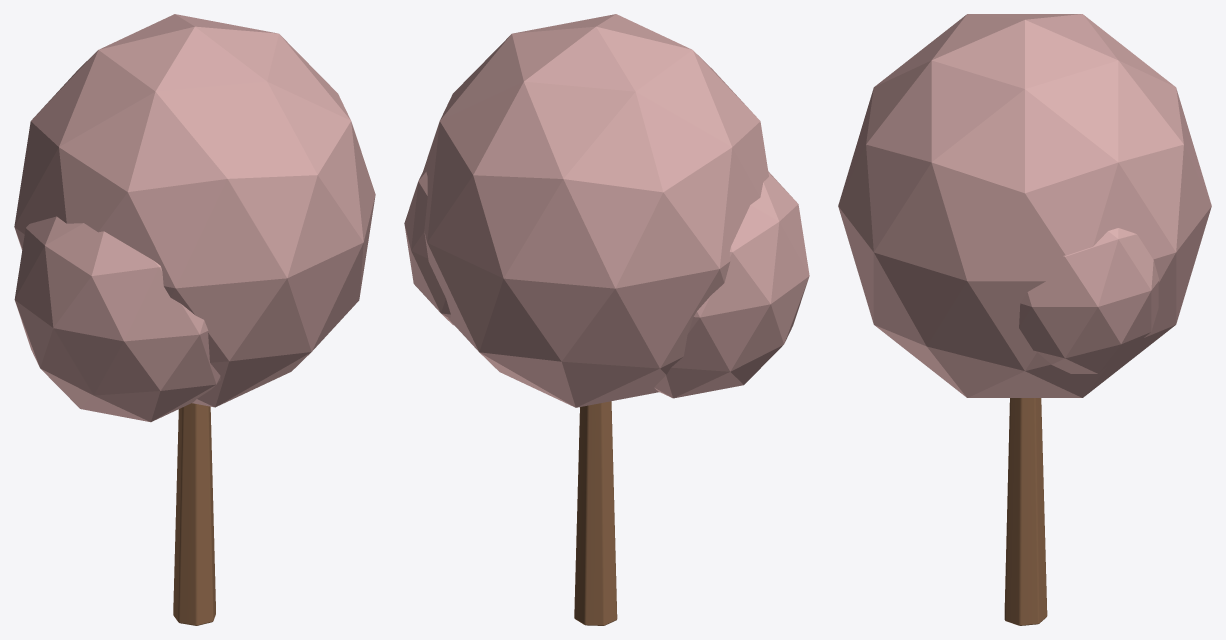
The model's file is cherry.glb.
The picture shows the model from 3 angles, left to right: view 1: azimuth 30°, elevation 25°; view 2: azimuth 150°, elevation 25°; view 3: azimuth 270°, elevation 25°; orthographic projection.
Parts seen in each view (by area): view 1: cherry_Tree_Crown, cherry_Tree_Crown.001, cherry_Tree_Trunk; view 2: cherry_Tree_Crown, cherry_Tree_Crown.001, cherry_Tree_Trunk, cherry_Tree_Crown.002; view 3: cherry_Tree_Crown, cherry_Tree_Crown.002, cherry_Tree_Trunk.
Part boxes in pixels (x1,y1,x2,y2): cherry_Tree_Crown: (14,14,375,407); cherry_Tree_Crown.001: (14,216,220,422); cherry_Tree_Trunk: (173,403,215,625); cherry_Tree_Crown: (422,14,768,407); cherry_Tree_Crown.001: (654,171,809,398); cherry_Tree_Trunk: (574,401,617,625); cherry_Tree_Crown.002: (404,172,454,325); cherry_Tree_Crown: (838,14,1211,397); cherry_Tree_Crown.002: (1019,228,1159,373); cherry_Tree_Trunk: (1004,398,1047,625).
Size of the model in its own units: 2.91 by 4.94 by 2.8.
